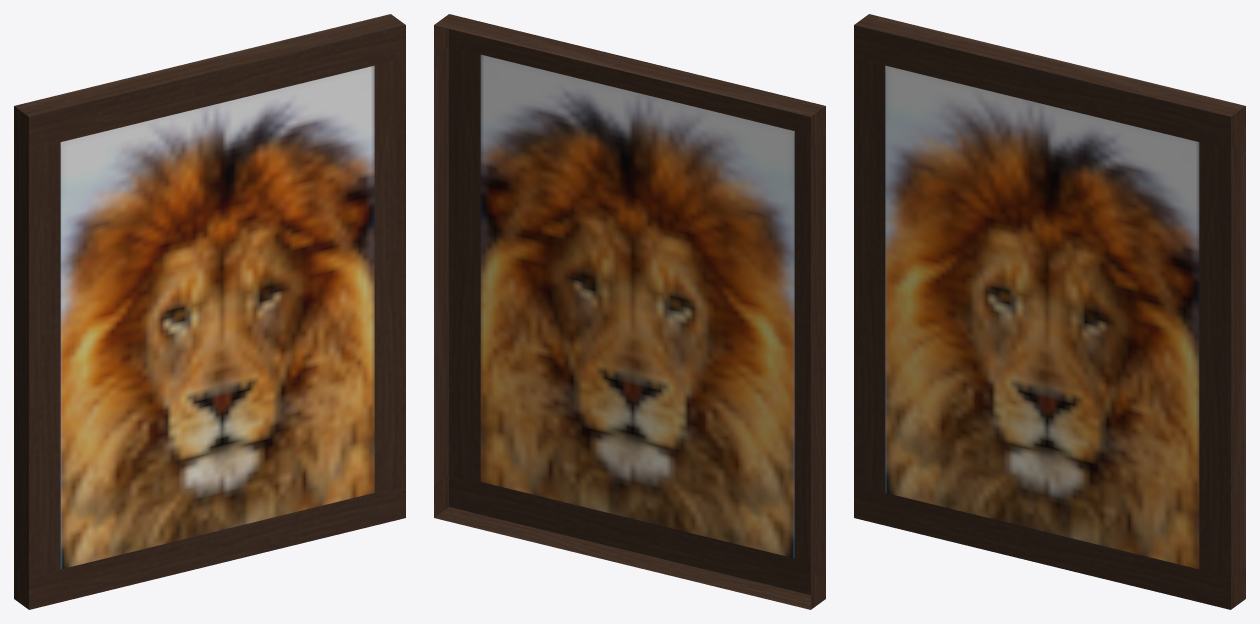
The model's file is Paint_1.fbx.
3 views of the same model, side by side, from view 1: azimuth 30°, elevation 25°; view 2: azimuth 150°, elevation 25°; view 3: azimuth 330°, elevation 25° (orthographic).
Visible parts, largest first — view 1: polySurface860; view 2: polySurface860; view 3: polySurface860.
Boxes of the visible parts, bbox=[...] form: polySurface860: bbox=[14, 14, 405, 609]; polySurface860: bbox=[434, 14, 825, 609]; polySurface860: bbox=[854, 14, 1245, 609].
Size of the model in its own units: 1.08 by 1.35 by 0.075.
